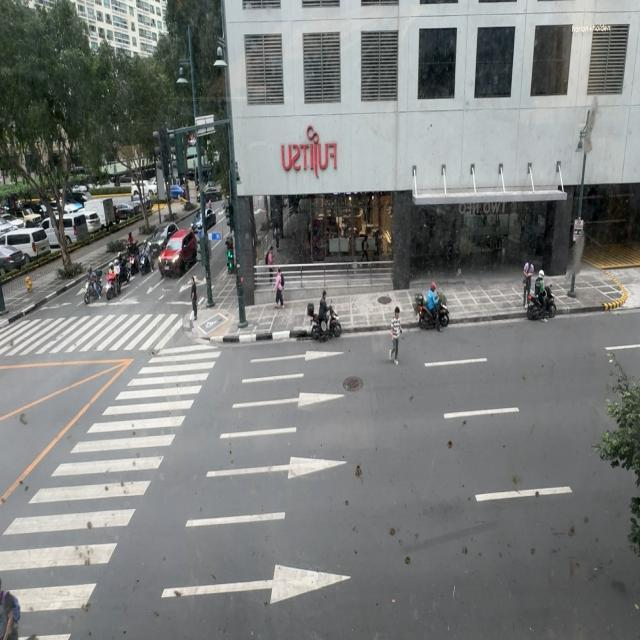jaywalking: (390, 306, 403, 364)
waiting: (190, 276, 198, 319)
